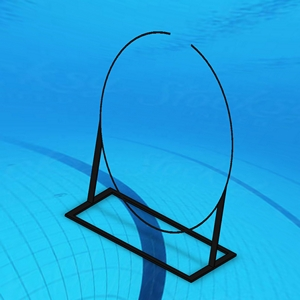circle: (63, 26, 243, 287)
